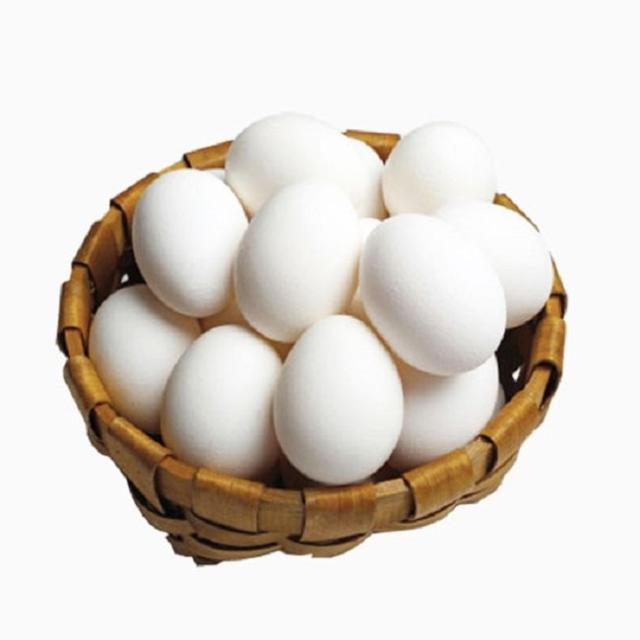Egg: (359, 214, 506, 376), (274, 315, 404, 485), (234, 181, 362, 342), (160, 325, 282, 479), (132, 170, 248, 317), (89, 284, 201, 434), (225, 112, 385, 217), (389, 355, 505, 470), (382, 121, 496, 214)
